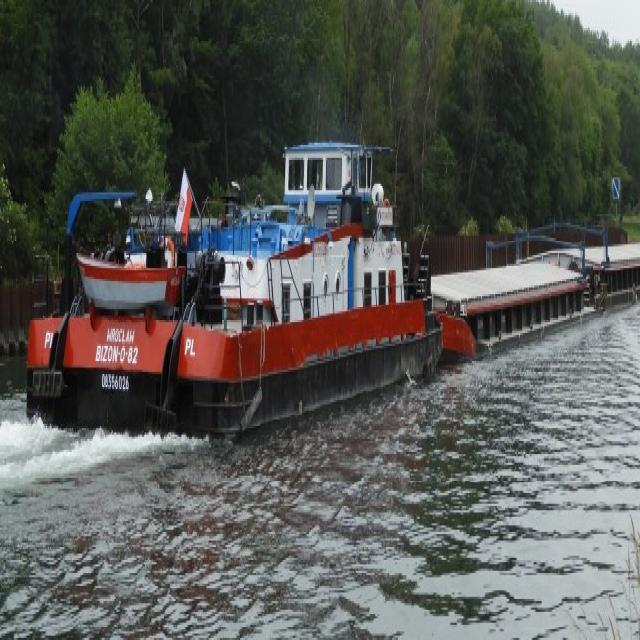tugboat: (22, 124, 479, 444)
